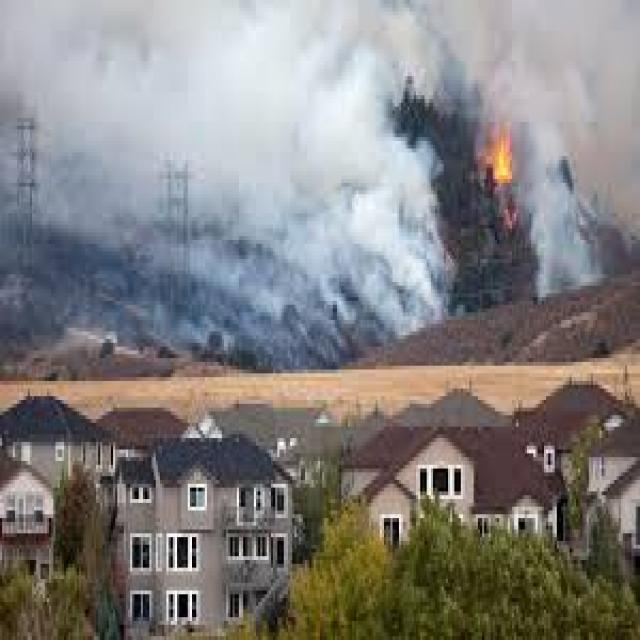Forest Fire: (226, 118, 640, 389)
